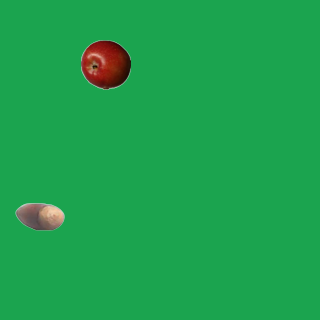Apple Braeburn: (80, 39, 130, 89)
Hazelnut: (14, 191, 64, 241)
